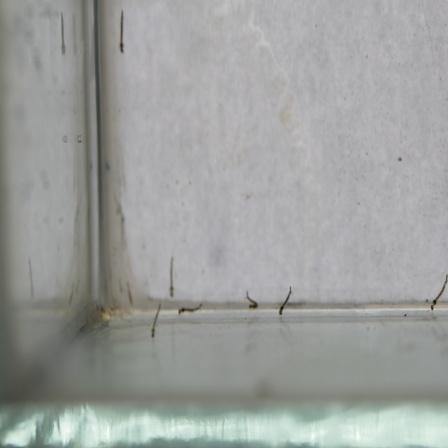Jentik-Nyamuk: (428, 269, 448, 315), (274, 283, 295, 319), (115, 7, 129, 58), (149, 298, 164, 343), (164, 253, 177, 301), (176, 299, 205, 319), (242, 289, 260, 312)
